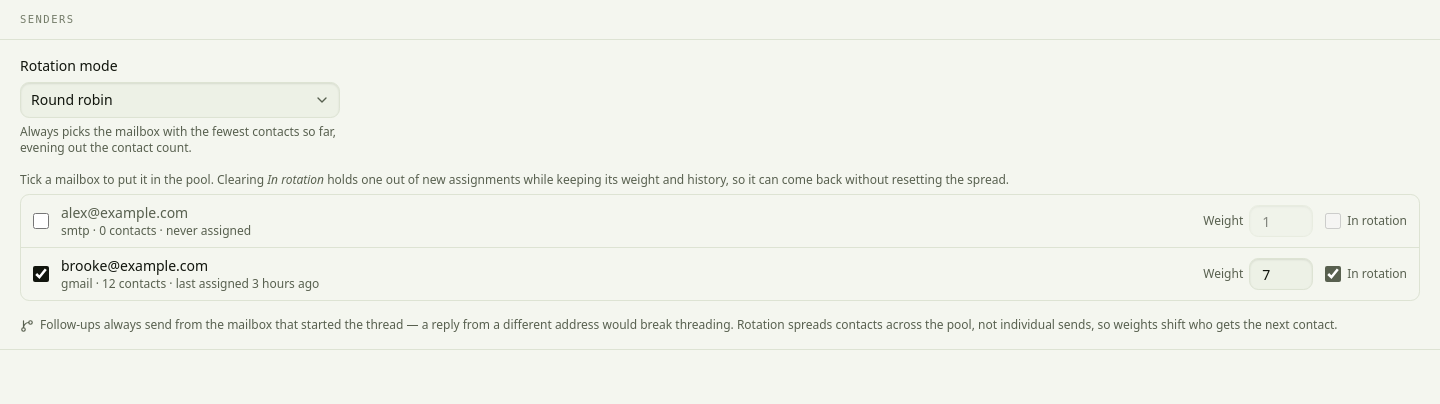
Scenario: SendersPanel › excluding every mailbox blocks the save with an explanation
Expected: the dropdown labelled "Rotation mode" is shown, [20,82,340,118]
Click the checkbox named "Include brooke@example.com in the pool": (41, 274) [33,266,49,282]
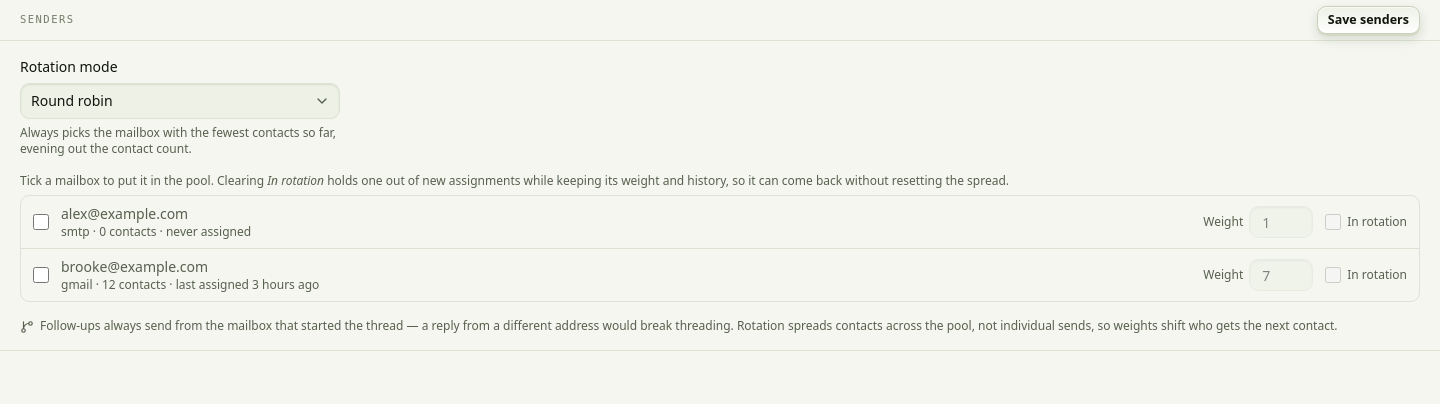
Click the button "Save senders": (1368, 20) [1317,6,1420,34]
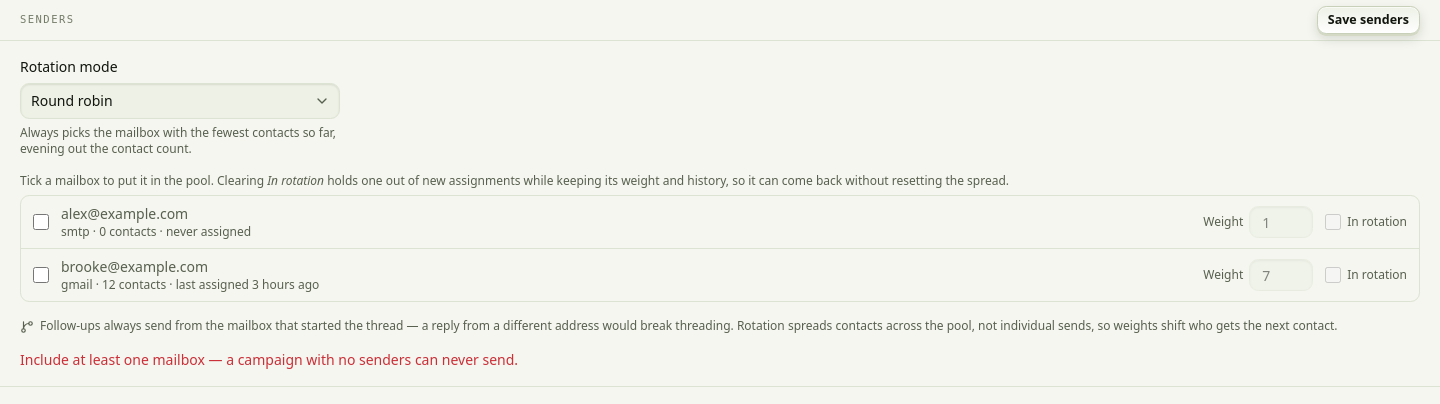
Now the message shows "at least one mailbox", box [20,350,518,369]
